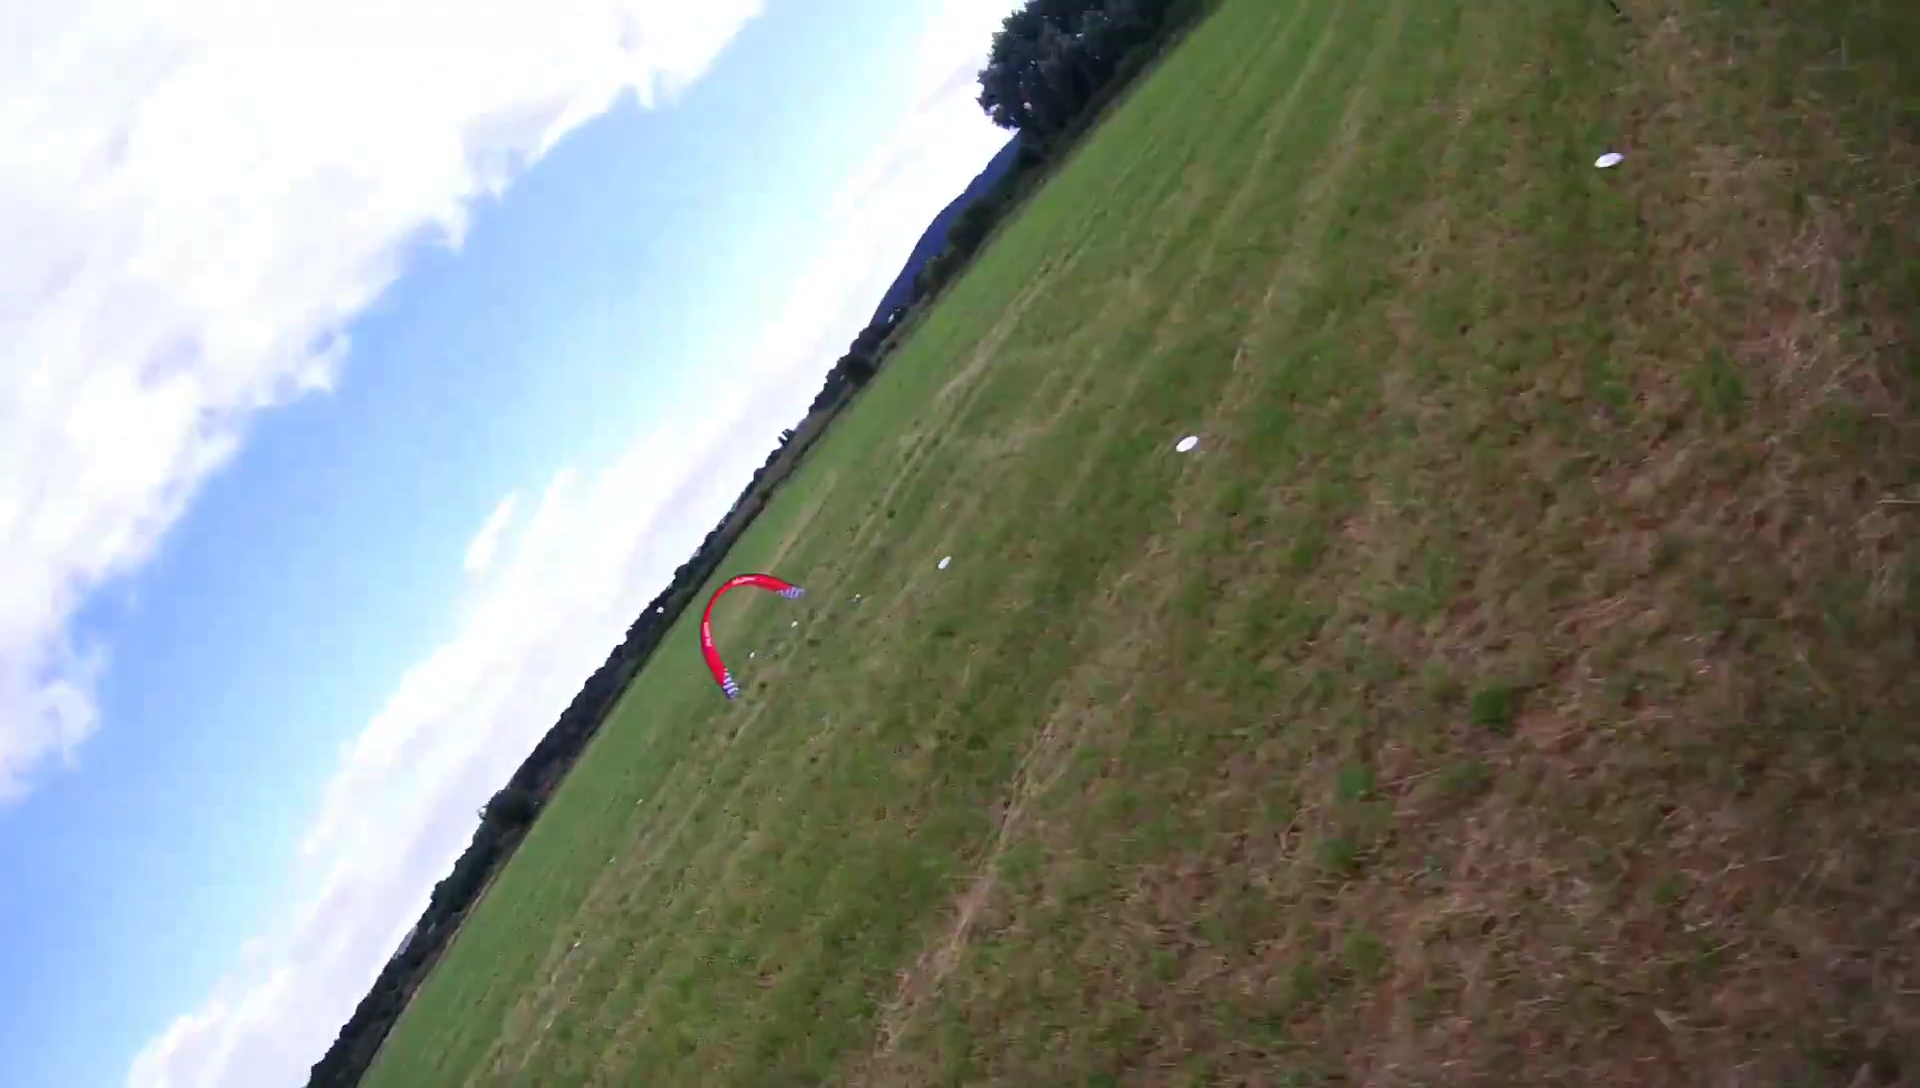gate: (702, 572, 806, 699)
